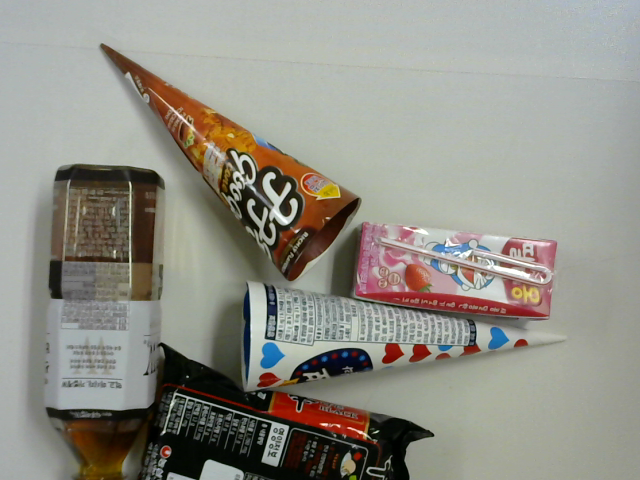Bravo_Cone_(Banila)_CVS: (241, 278, 582, 403)
GooGoo_Cone_CVS: (94, 41, 358, 283)
Post-meal_recipe_W_tea_500ml: (42, 161, 170, 480)
Sinramen_Black: (147, 360, 405, 480)
Strawberry_E_Mong: (356, 219, 556, 320)
